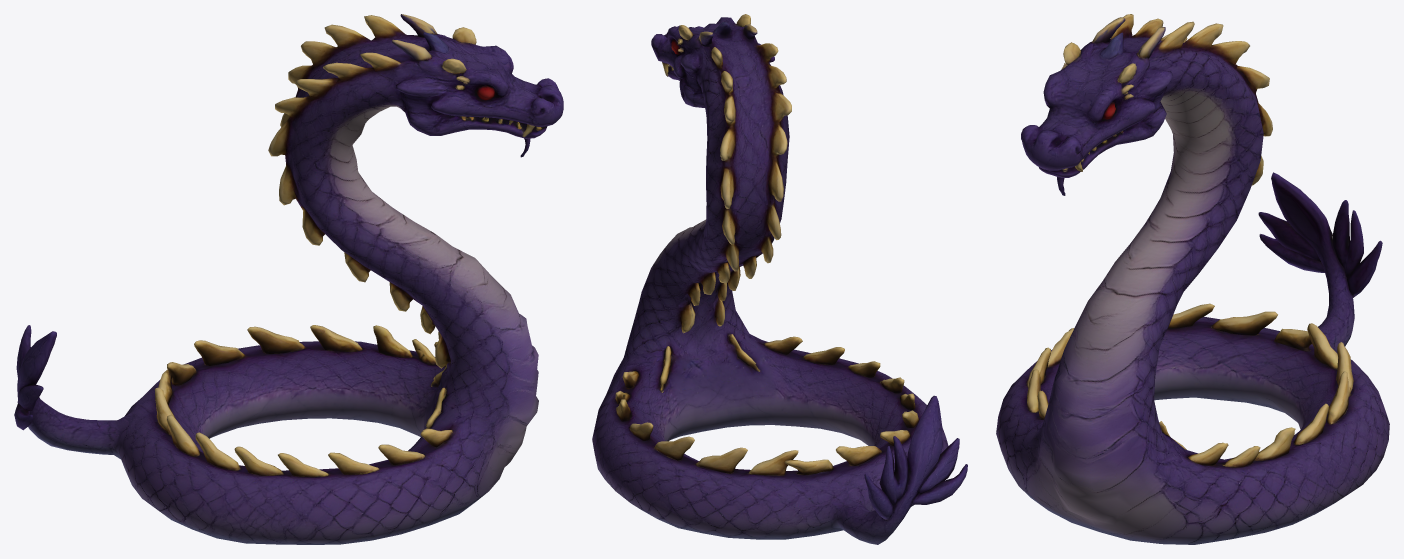
File: r33-serpent.glb
3 views of the same model, side by side, from view 1: azimuth 30°, elevation 25°; view 2: azimuth 150°, elevation 25°; view 3: azimuth 270°, elevation 25° (orthographic). The views are drawn at different scales.
Parts seen in each view (by area): view 1: tripo_node_dff389af-f20c-4524-bf92-e58127bd2941; view 2: tripo_node_dff389af-f20c-4524-bf92-e58127bd2941; view 3: tripo_node_dff389af-f20c-4524-bf92-e58127bd2941.
Boxes of the visible parts, x1,y1,x2,y2 form: tripo_node_dff389af-f20c-4524-bf92-e58127bd2941: [14, 14, 563, 544]; tripo_node_dff389af-f20c-4524-bf92-e58127bd2941: [592, 14, 967, 544]; tripo_node_dff389af-f20c-4524-bf92-e58127bd2941: [996, 14, 1389, 544].
Size of the model in its own units: 0.998 by 0.998 by 0.7441.
1 material, 1 textured.
